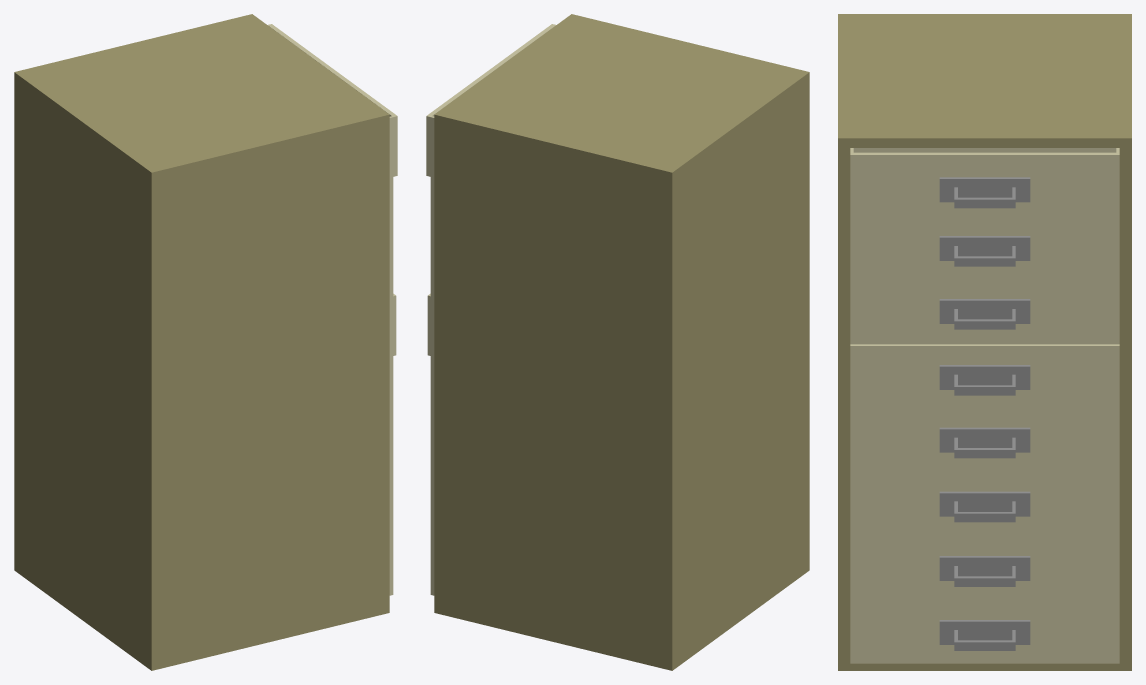
Rendered from FilingCabinet.fbx.
3 renders of one model, left to right at view 1: azimuth 30°, elevation 25°; view 2: azimuth 150°, elevation 25°; view 3: azimuth 270°, elevation 25°, orthographic. The views are drawn at different scales.
Visible parts, largest first — view 1: Cube; view 2: Cube; view 3: Cube.
Part boxes in pixels (x1=…): Cube: x1=14, y1=14, x2=397, y2=670; Cube: x1=426, y1=14, x2=809, y2=670; Cube: x1=838, y1=14, x2=1131, y2=670.
Bounding box in the file's own units: 234 × 400 × 200.
